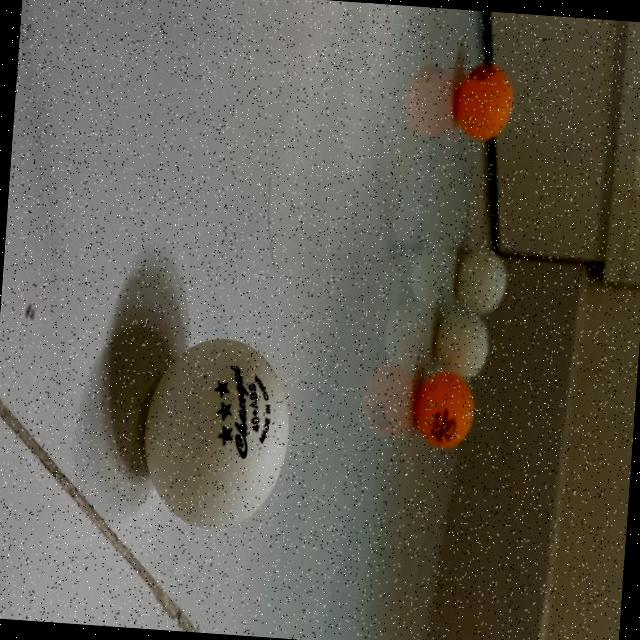ping-pong-ball: (137, 334, 292, 534), (410, 374, 474, 450), (452, 64, 513, 142), (430, 310, 488, 382), (452, 250, 508, 314)
